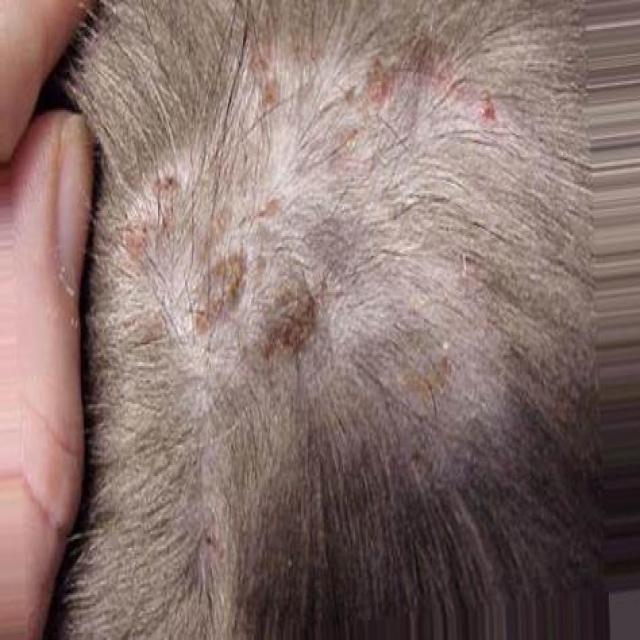di ung bo chet: (98, 64, 570, 469)
